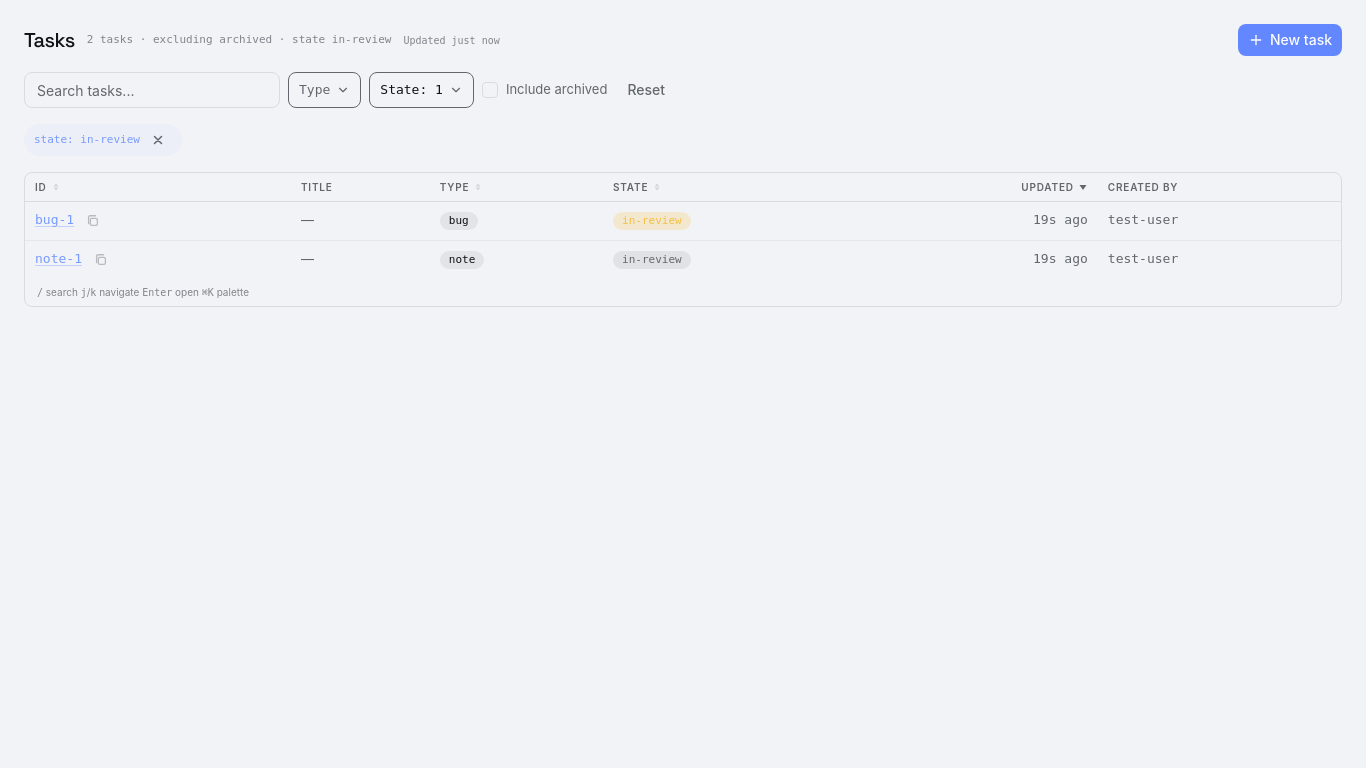
Test: TasksPage state filter and sort › keeps the harness selectors unique with a state filter set
This screenshot has width=1366, height=768.
Expected: the link "bug-1" is shown, [35,211,74,230]
Expected: the number of search fields labelled "Search tasks" is 1, [24,72,280,108]
Click the button "Type".
click(325, 90)  # box [288,72,361,108]
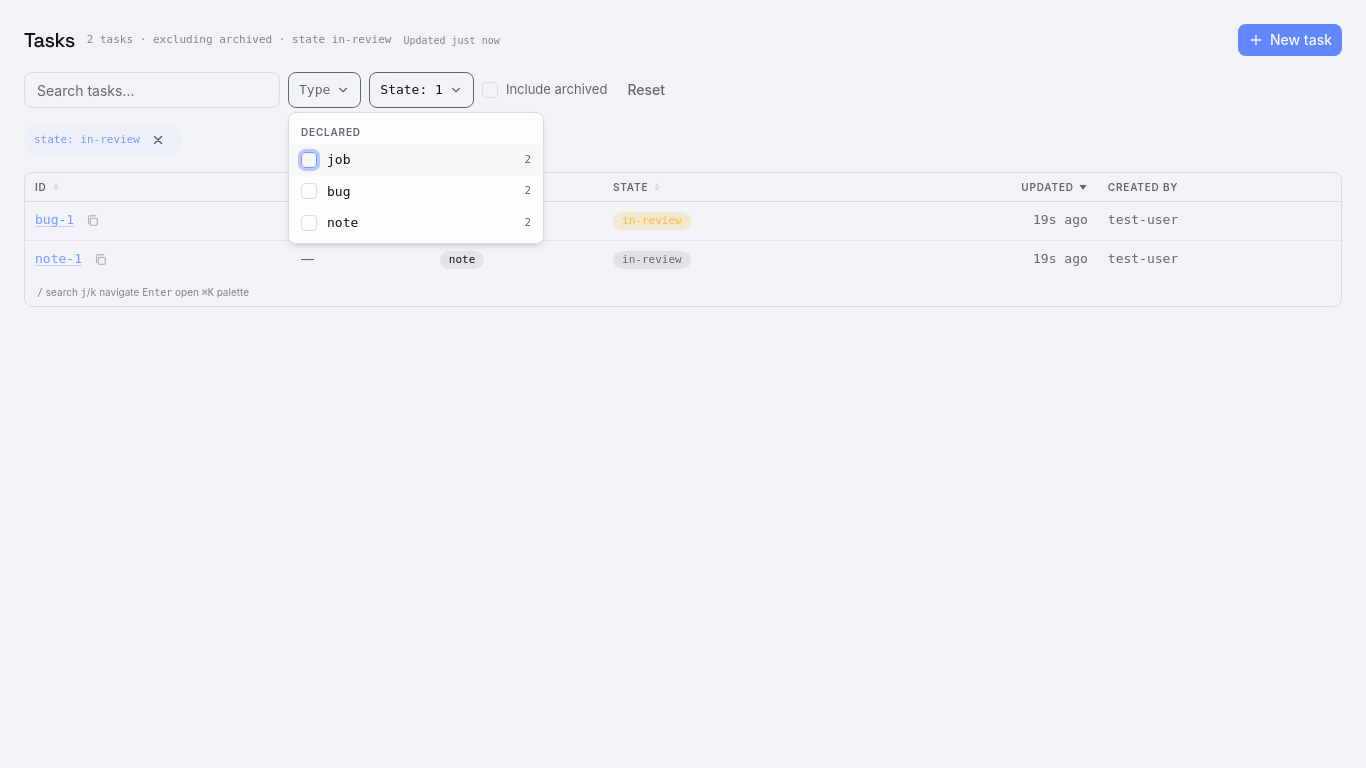
Click the 3rd checkbox named "bug".
click(309, 191)  # box [301,183,317,199]
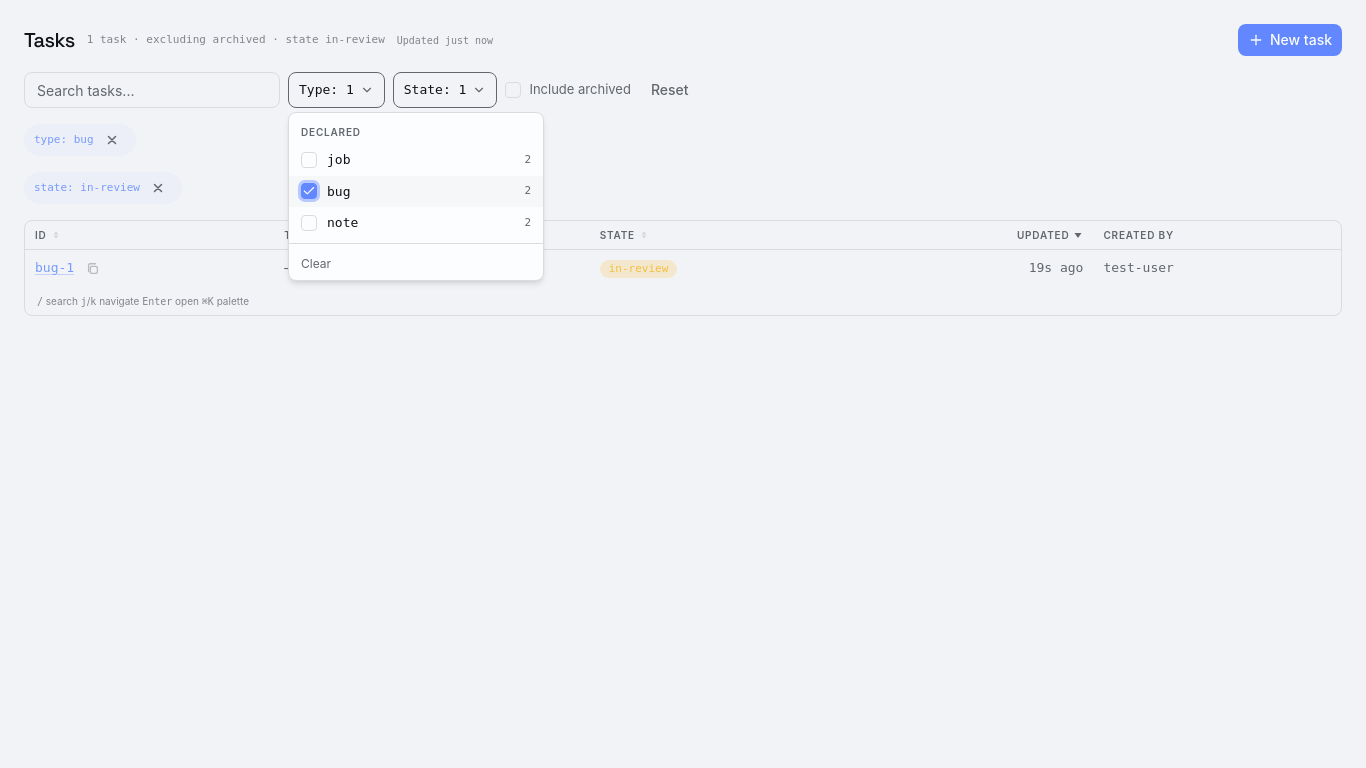
Press Escape
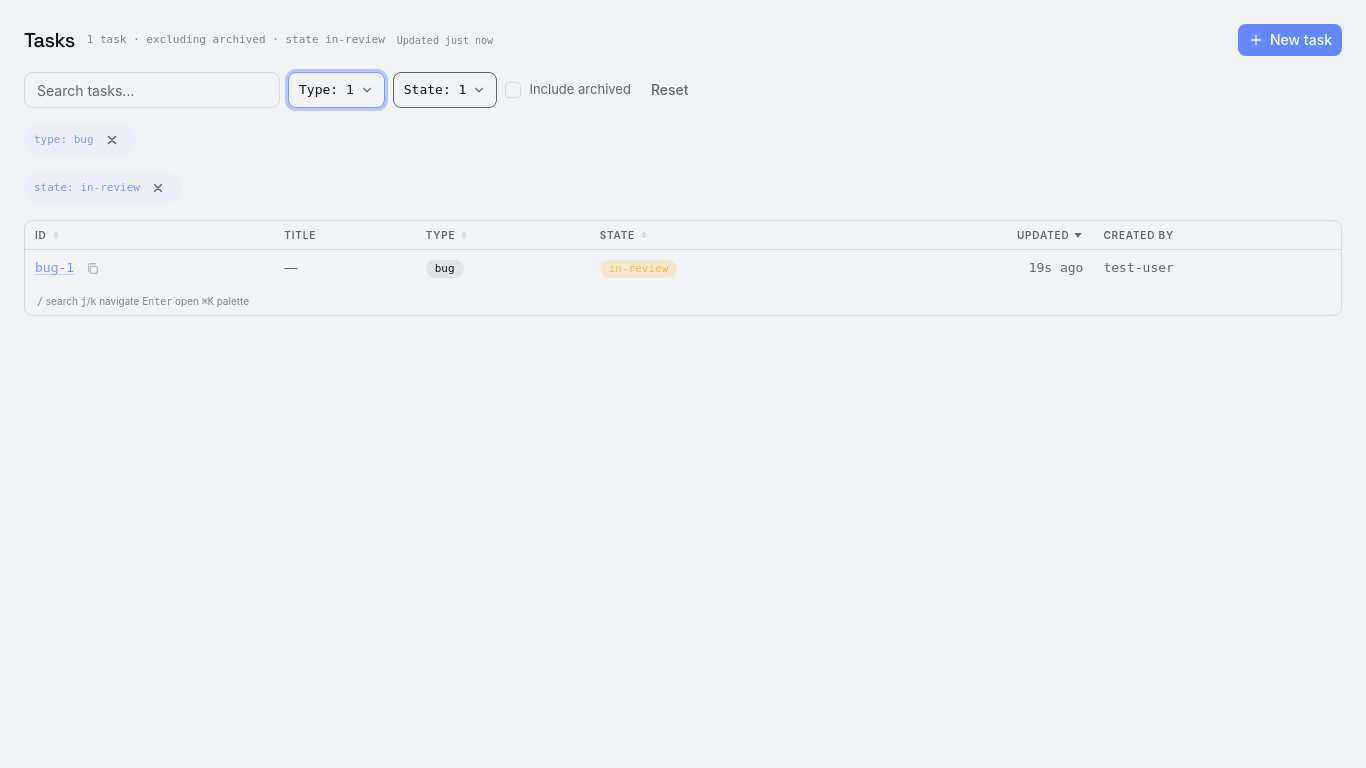
Click the button "Type: 1".
click(336, 90)  # box [288,72,385,108]
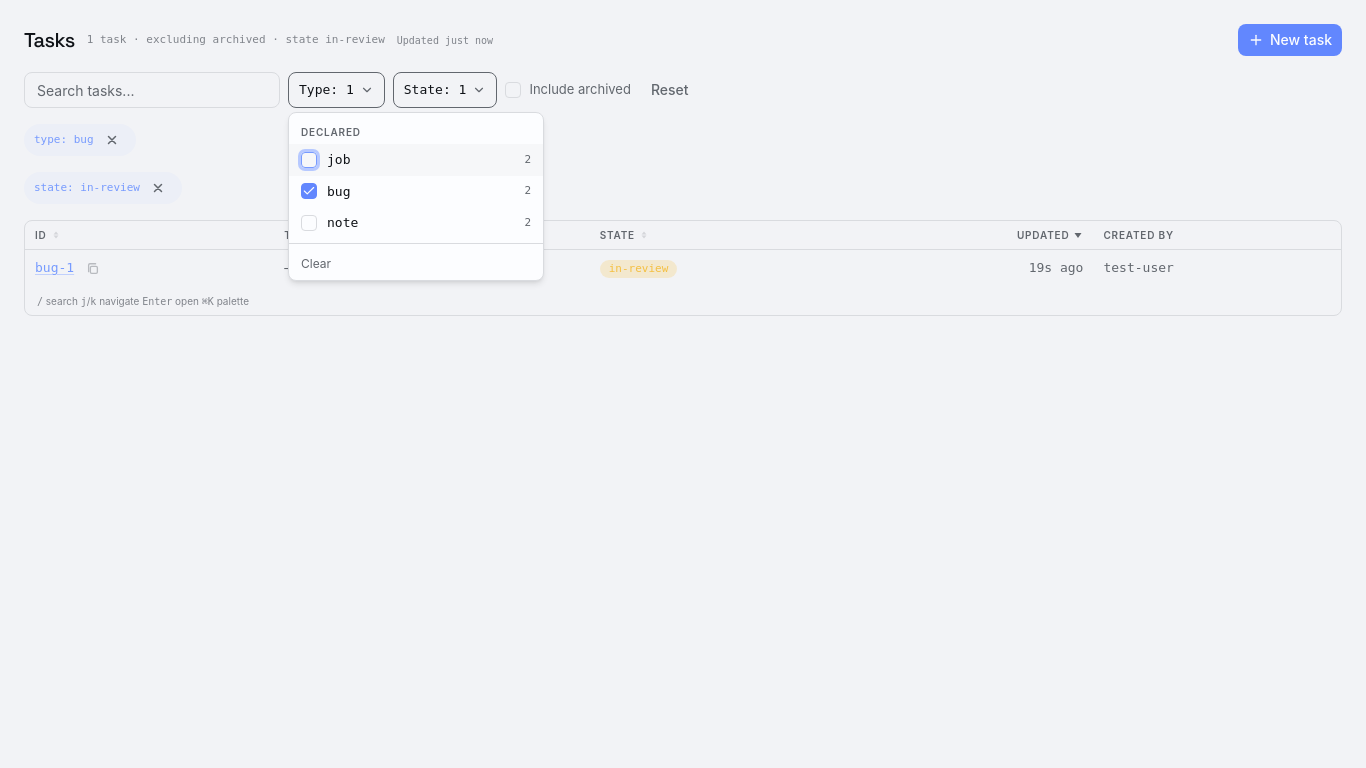
Expected: the number of buttons "Reset" is 1, [639,74,700,106]
Expected: the number of buttons "Clear" is 1, [301,256,331,272]
